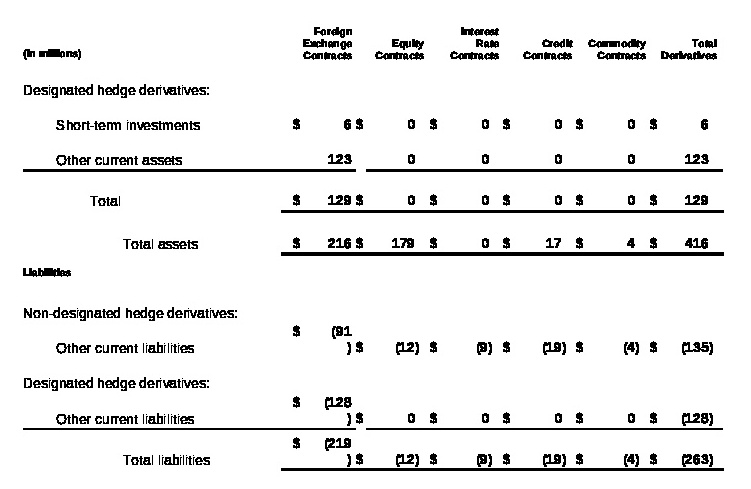table: (0, 0, 751, 489)
